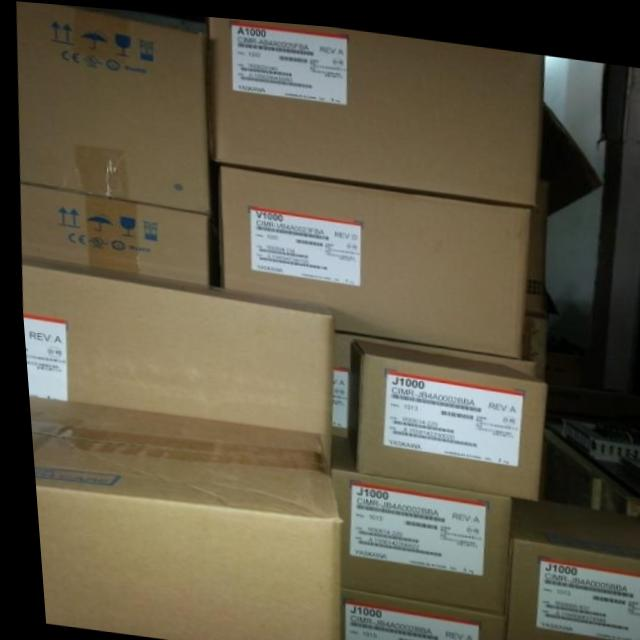box: (23, 397, 336, 640), (18, 259, 329, 471), (210, 13, 544, 200), (218, 163, 529, 350), (17, 1, 218, 211), (341, 333, 542, 493), (323, 436, 505, 603), (324, 325, 531, 439), (494, 490, 640, 640), (18, 183, 218, 282), (332, 583, 497, 640)
